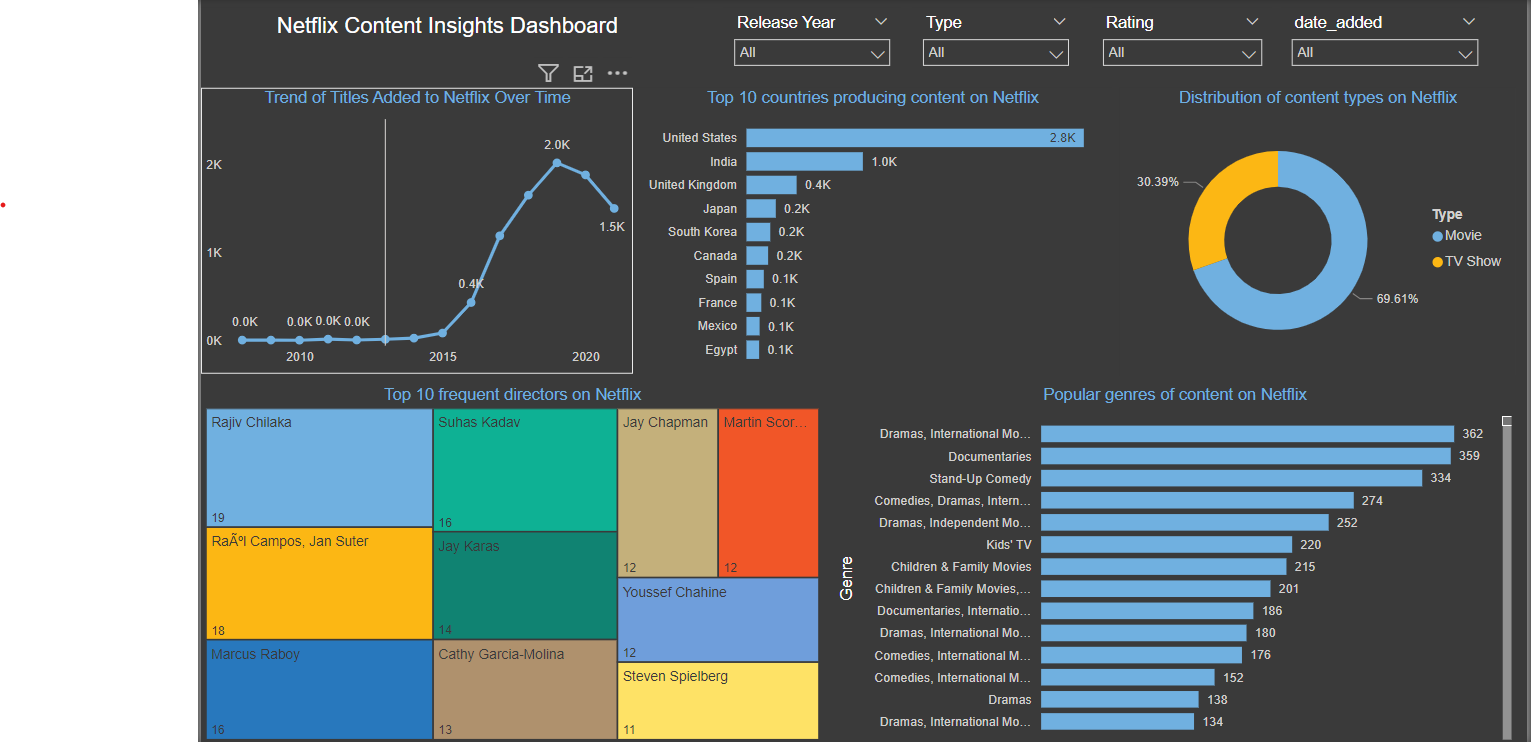

This screenshot's page, from the dashboard's own definition file:
{"tool":"powerbi","page":{"name":"Netflix Dashboard","canvas":[1280,720],"ordinal":0},"visuals":[{"type":"barChart","title":"Top 10 countries producing content on Netflix","fields":{"Category":["Sheet1.country"],"Y":["CountNonNull(Sheet1.title)"]},"box":[418.2,85.6,459.8,276.4],"z":0},{"type":"donutChart","title":"Distribution of content types on Netflix","fields":{"Category":["Sheet1.type"],"Y":["CountNonNull(Sheet1.type)"]},"box":[886.6,85.6,382.7,277.6],"z":1000},{"type":"barChart","title":"Popular genres of content on Netflix","fields":{"Category":["Sheet1.listed_in"],"Y":["CountNonNull(Sheet1.title)"]},"box":[610.2,373,659.1,347.3],"z":2000},{"type":"treemap","title":"Top 10 frequent directors on Netflix","fields":{"Group":["Sheet1.director"],"Values":["CountNonNull(Netflix.director)"]},"box":[0,373,601.6,347.3],"z":3000},{"type":"textbox","box":[0,8.6,475.7,62.4],"z":4000},{"type":"slicer","fields":{"Values":["Netflix.release_year"]},"box":[503.8,8.6,171.2,62.4],"z":5000},{"type":"slicer","fields":{"Values":["Netflix.Type"]},"box":[686,8.6,161.4,62.4],"z":6000},{"type":"slicer","fields":{"Values":["Netflix.rating"]},"box":[859.7,8.6,173.6,62.4],"z":7000},{"type":"slicer","fields":{"Values":["Netflix.date_added"]},"box":[1041.9,8.6,200.5,62.4],"z":8000},{"type":"lineChart","title":"Trend of Titles Added to Netflix Over Time","fields":{"Category":["Netflix.date_added.Variation.Date Hierarchy.Year"],"Y":["CountNonNull(Netflix.title)"]},"box":[0,86,418,276],"z":9000}]}

Visuals, with their boxes on the page's 1280x720 design canvas (x1, y1, x2, y2). These are canvas units, not pixel positions in the 1531x742 screenshot, which may show the page scaled, cropped or inside an application window:
"Top 10 countries producing content on Netflix" barChart: 418,86,878,362
"Distribution of content types on Netflix" donutChart: 887,86,1269,363
"Popular genres of content on Netflix" barChart: 610,373,1269,720
"Top 10 frequent directors on Netflix" treemap: 0,373,602,720
textbox: 0,9,476,71
slicer - Netflix.release_year: 504,9,675,71
slicer - Netflix.Type: 686,9,847,71
slicer - Netflix.rating: 860,9,1033,71
slicer - Netflix.date_added: 1042,9,1242,71
"Trend of Titles Added to Netflix Over Time" lineChart: 0,86,418,362
